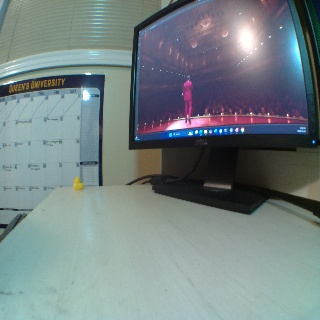duck_regular: (72, 176, 84, 190)
